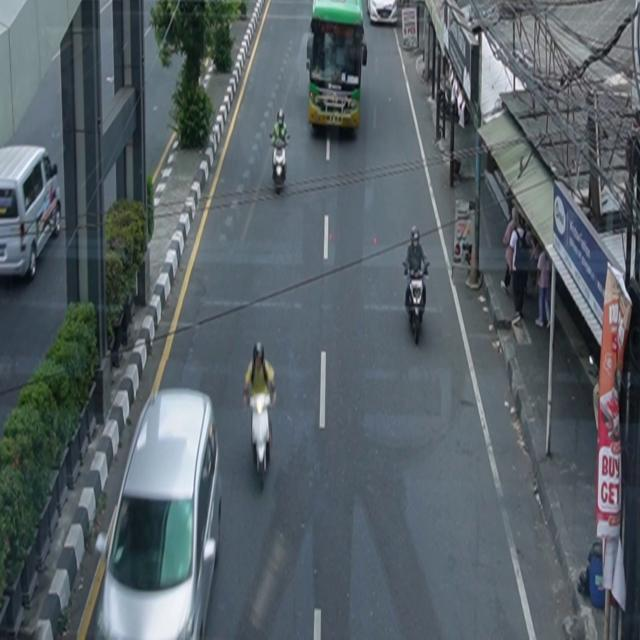bus: (307, 1, 368, 135)
car: (87, 387, 223, 640)
